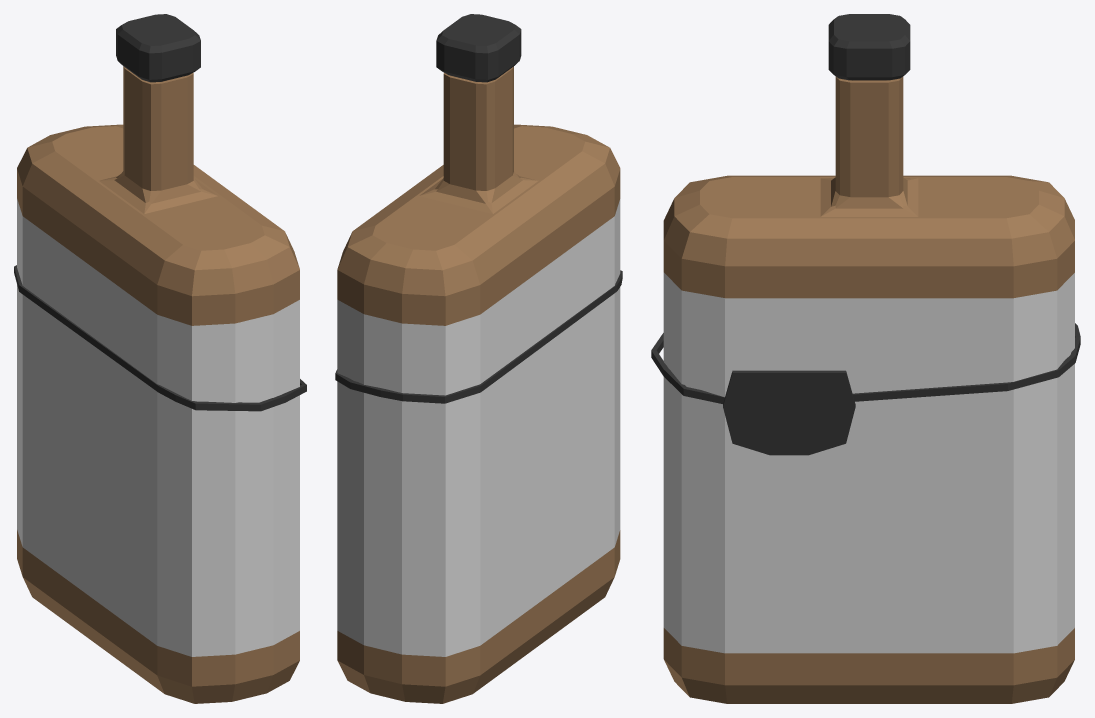
File: Rum.fbx
3 views of the same model, side by side, from view 1: azimuth 30°, elevation 25°; view 2: azimuth 150°, elevation 25°; view 3: azimuth 270°, elevation 25° (orthographic). The views are drawn at different scales.
Visible parts, largest first — view 1: Cube; view 2: Cube; view 3: Cube.
Part boxes in pixels (bbox=[...]): Cube: bbox=[14, 14, 306, 703]; Cube: bbox=[335, 14, 622, 703]; Cube: bbox=[651, 14, 1080, 703].
Size of the model in its own units: 33.35 by 135 by 80.34.
